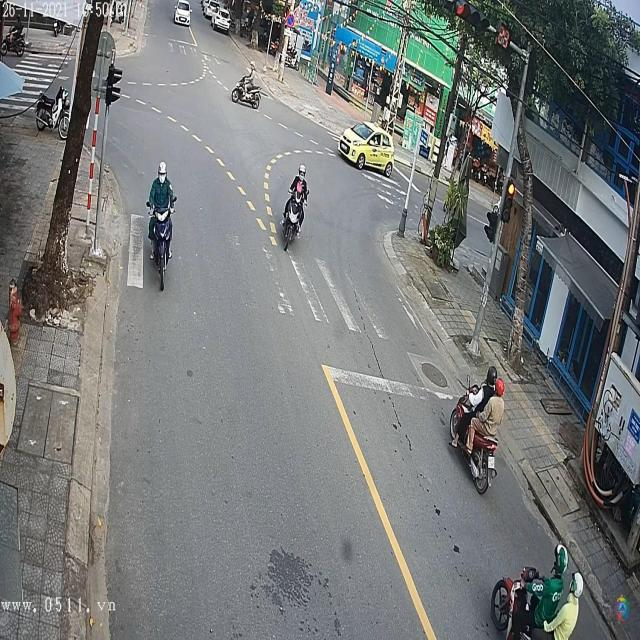car: (338, 124, 397, 178), (173, 2, 190, 25)
motorcycle: (448, 362, 498, 494), (144, 186, 178, 289), (279, 180, 310, 253), (231, 76, 260, 108)
